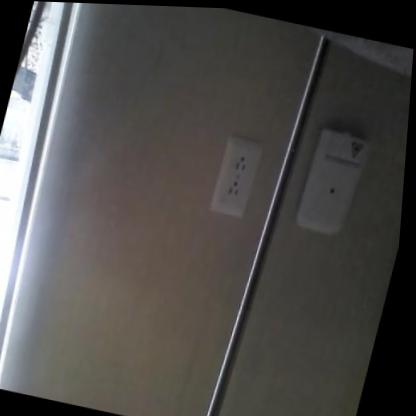OUTLET: (208, 134, 265, 220)
